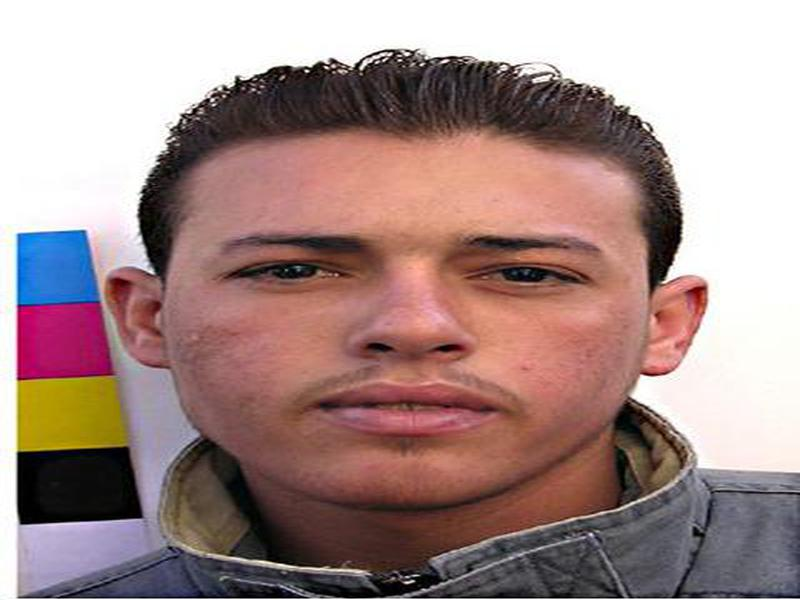without_mask: (168, 138, 648, 521)
